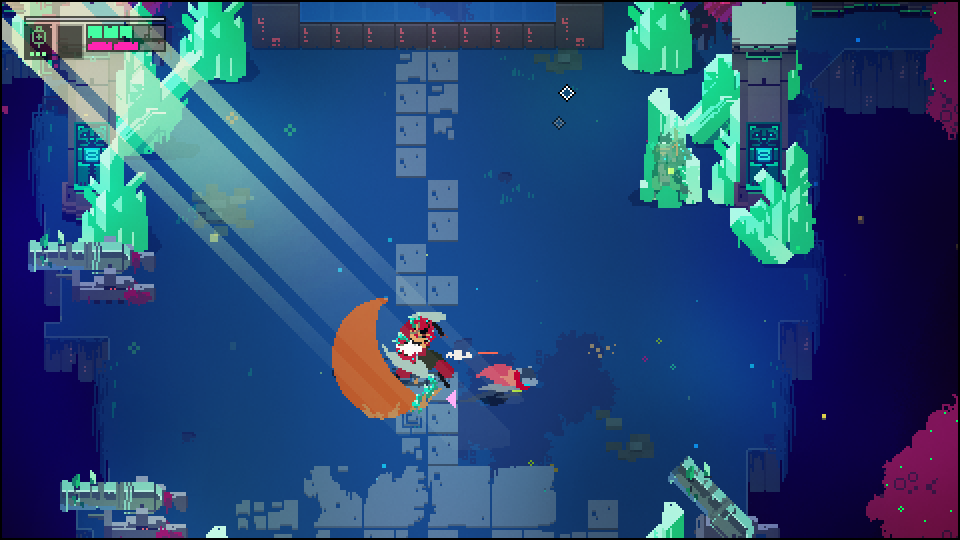hanged_man: (347, 300, 451, 418)
player: (474, 362, 538, 403)
